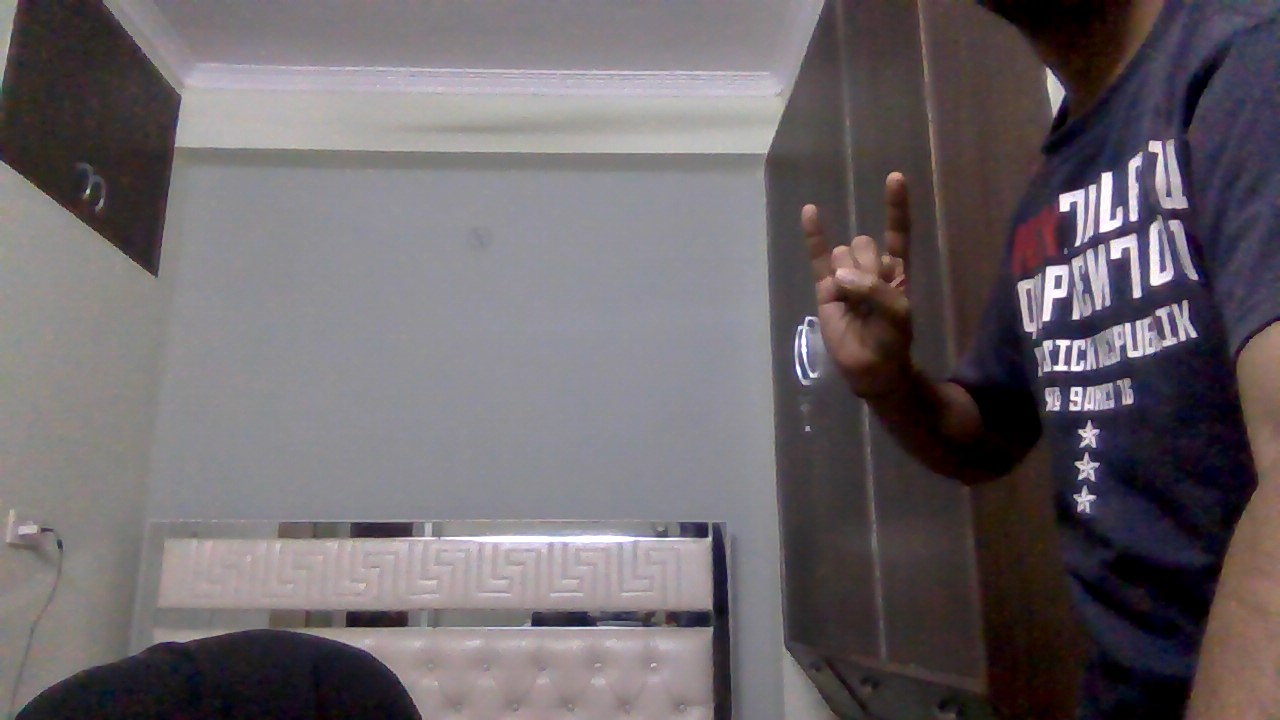Select All: (782, 162, 940, 386)
